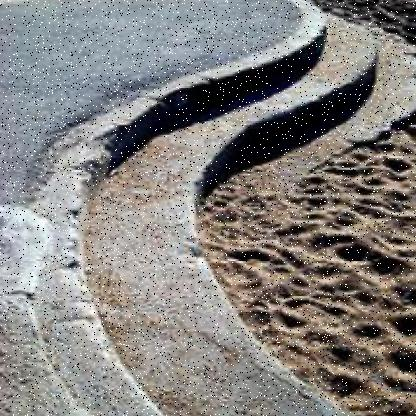stair_up: (7, 148, 288, 386)
